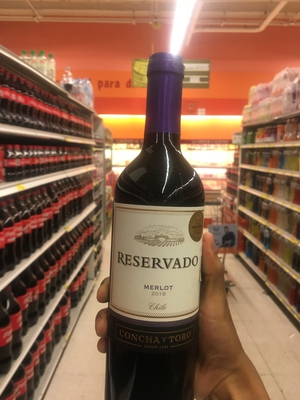reservado merlot: (90, 55, 217, 398)
